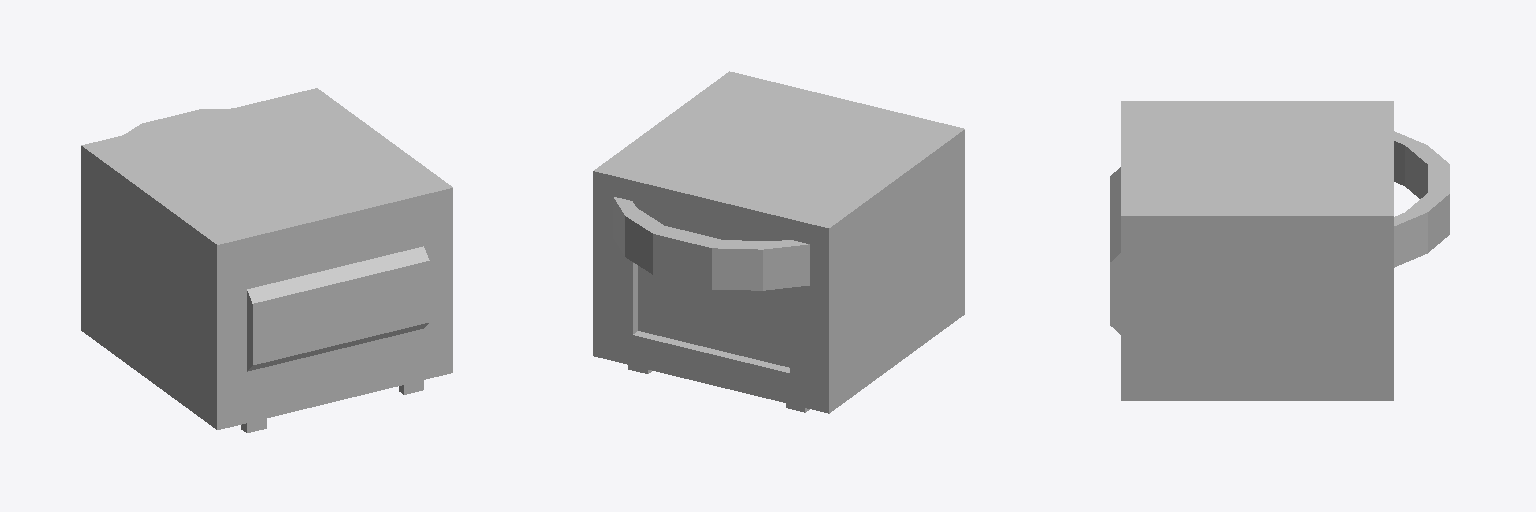
The model's file is gamecube.obj.
3 views of the same model, side by side, from view 1: azimuth 30°, elevation 25°; view 2: azimuth 150°, elevation 25°; view 3: azimuth 270°, elevation 25° (orthographic).
Visible parts, largest first — view 1: Cube.001_Cube.003; view 2: Cube.001_Cube.003; view 3: Cube.001_Cube.003.
Boxes of the visible parts, box(x1,y1,x2,y2) form: Cube.001_Cube.003: box(81, 88, 452, 432); Cube.001_Cube.003: box(593, 71, 964, 413); Cube.001_Cube.003: box(1110, 101, 1449, 400).
Size of the model in its own units: 0.72 by 0.57 by 0.9.